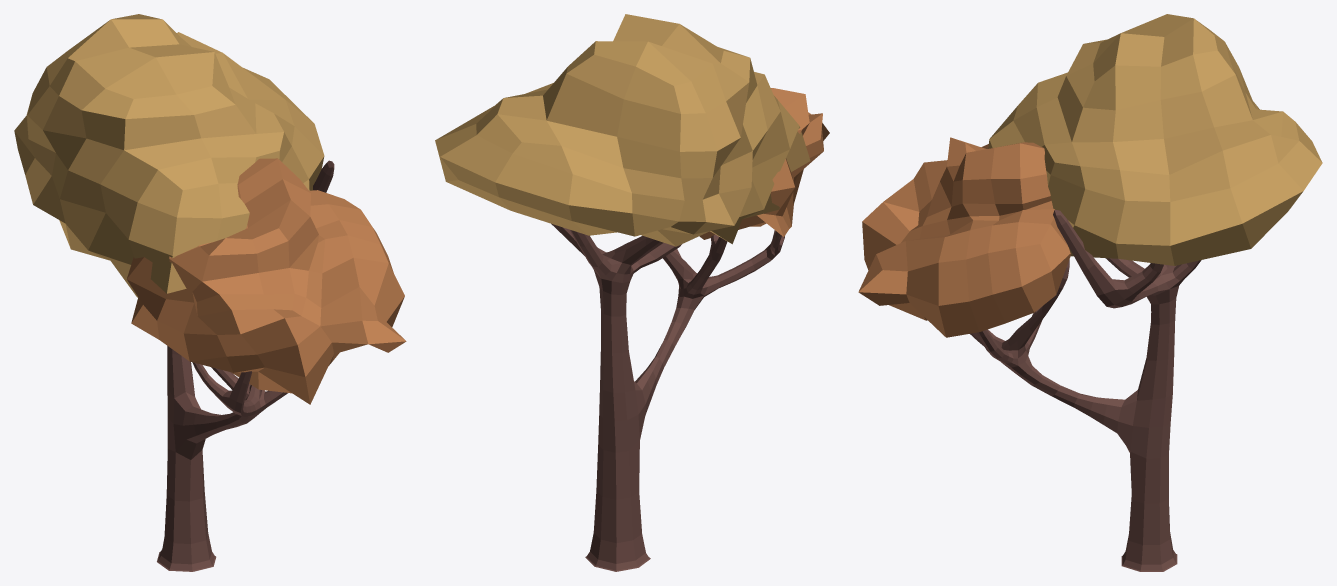
File: commontree_autumn_2.glb
3 views of the same model, side by side, from view 1: azimuth 30°, elevation 25°; view 2: azimuth 150°, elevation 25°; view 3: azimuth 270°, elevation 25° (orthographic). The views are drawn at different scales.
Visible parts, largest first — view 1: CommonTree_Autumn_2; view 2: CommonTree_Autumn_2; view 3: CommonTree_Autumn_2.
Part boxes in pixels (x1,y1,x2,y2): CommonTree_Autumn_2: [14, 14, 406, 571]; CommonTree_Autumn_2: [435, 14, 829, 571]; CommonTree_Autumn_2: [858, 14, 1322, 571].
Bounding box in the file's own units: 3.99 × 7.49 × 6.1.
